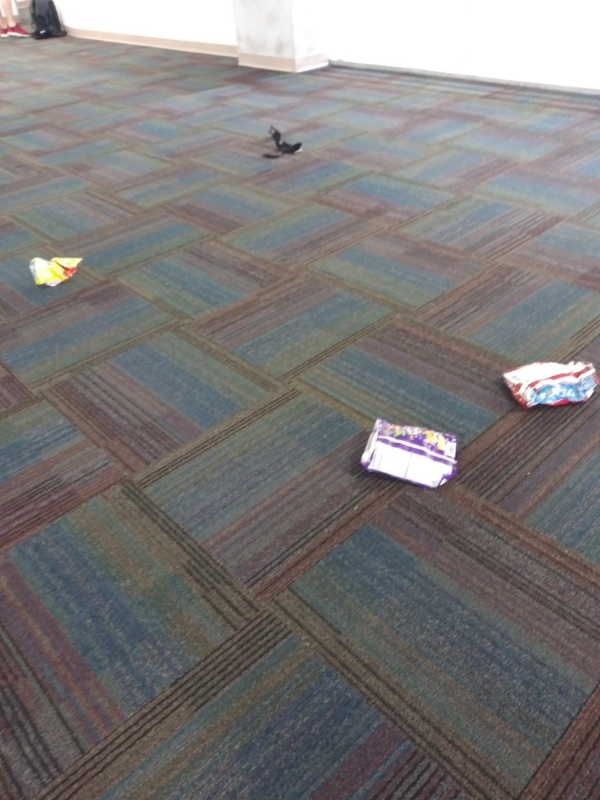bag: (354, 415, 462, 490), (495, 358, 600, 416), (24, 249, 87, 292)
